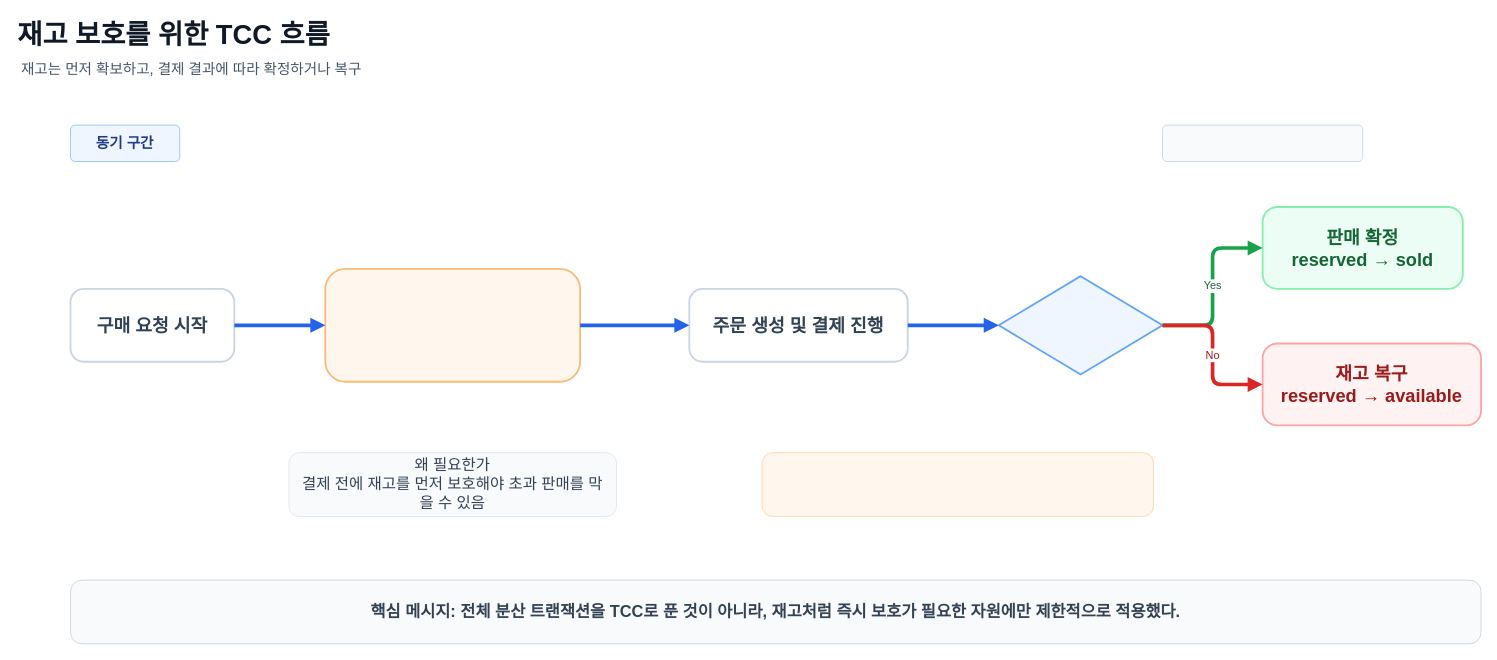
Some shapes in this 1497 by 660 pixel diagram are drawn without their labels. Here are the shapes that lost their labels. From the top down, the centre of each, then its label:
At point 1262,143: "후속 상태 전파는 Saga".
At point 452,325: "재고 임시 확보 결제 전까지 재고를 먼저 잡아둠".
At point 1080,325: "결제 성공?".
At point 957,484: "Trade-off reserved 상태 / TTL / 복구 로직을 직접 관리해야 해서 구조는 더 복잡해짐".
